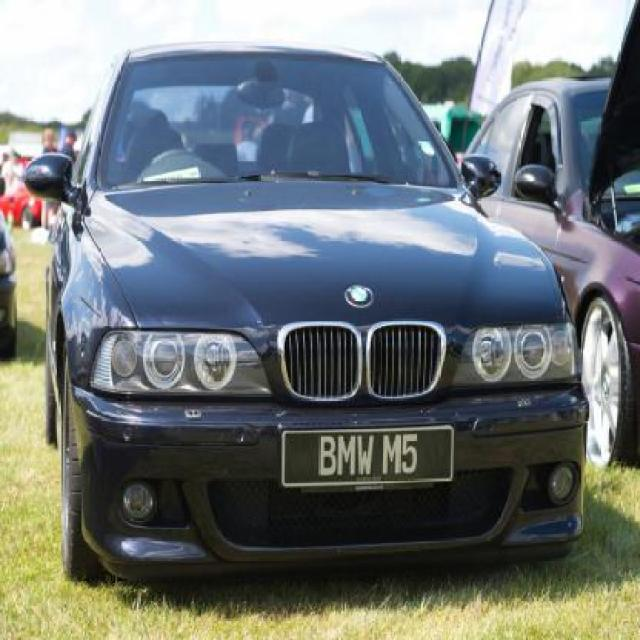License-Plates: (276, 421, 457, 493)
